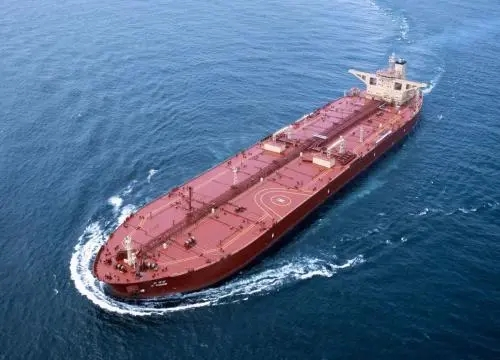Cargoship: (89, 52, 429, 301)
